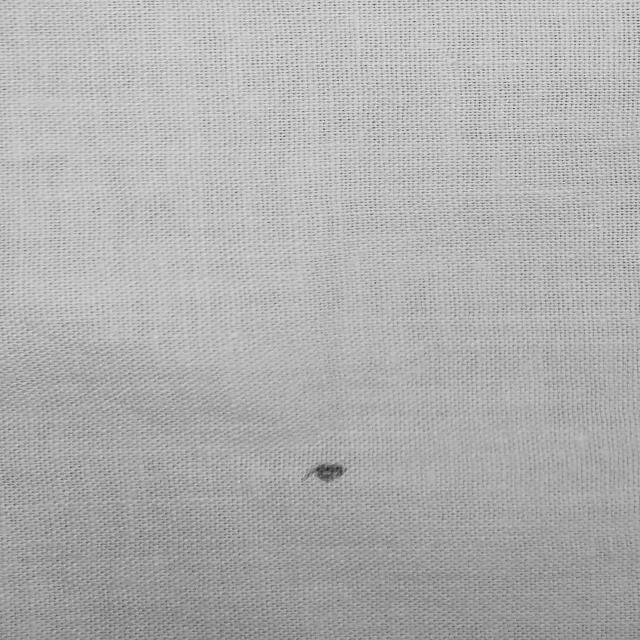Stain: (301, 464, 346, 483)
